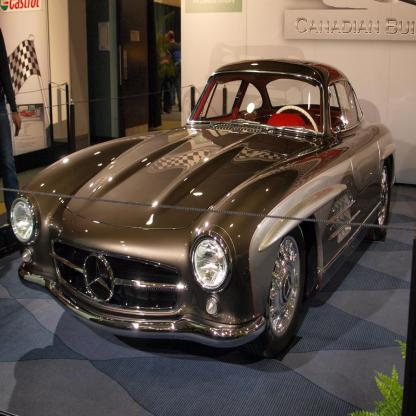Car: (9, 58, 396, 359)
